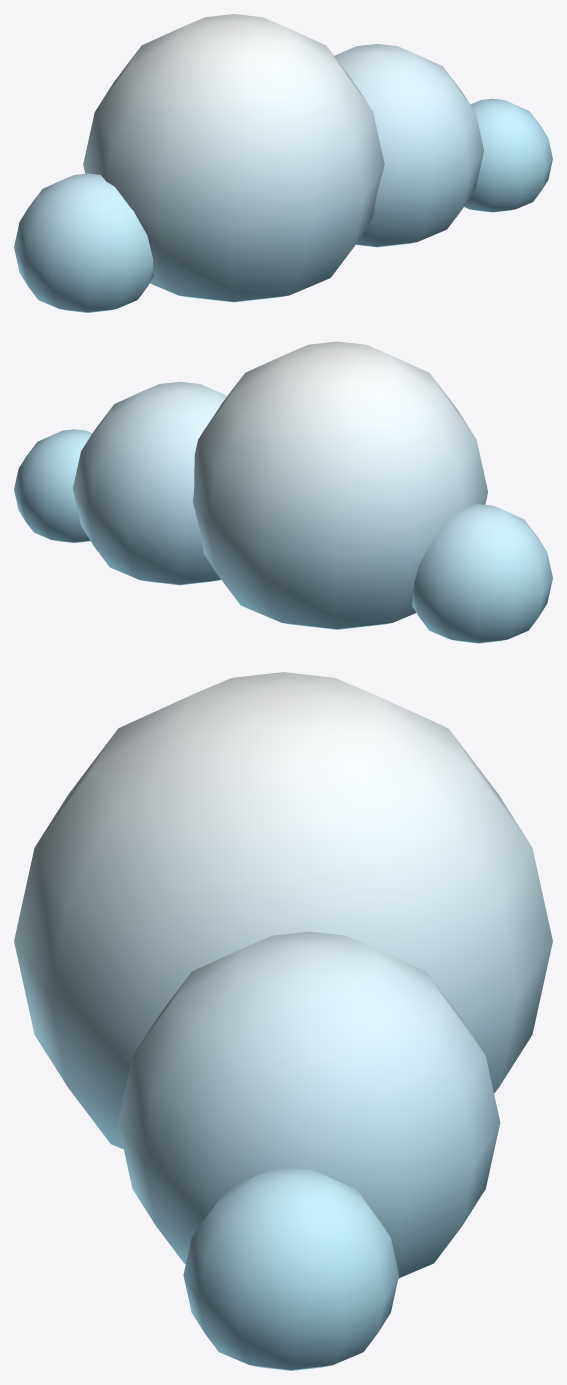
File: Cloud_02.fbx
3 views of the same model, one above another, from view 1: azimuth 30°, elevation 25°; view 2: azimuth 150°, elevation 25°; view 3: azimuth 270°, elevation 25° (orthographic). The views are drawn at different scales.
Visible parts, largest first — view 1: Cloud_02; view 2: Cloud_02; view 3: Cloud_02.
Part boxes in pixels (x1,y1,x2,y2): Cloud_02: (14, 14, 552, 312); Cloud_02: (14, 341, 552, 643); Cloud_02: (14, 672, 552, 1370).
Bounding box in the file's own units: 399 × 172 × 200.
